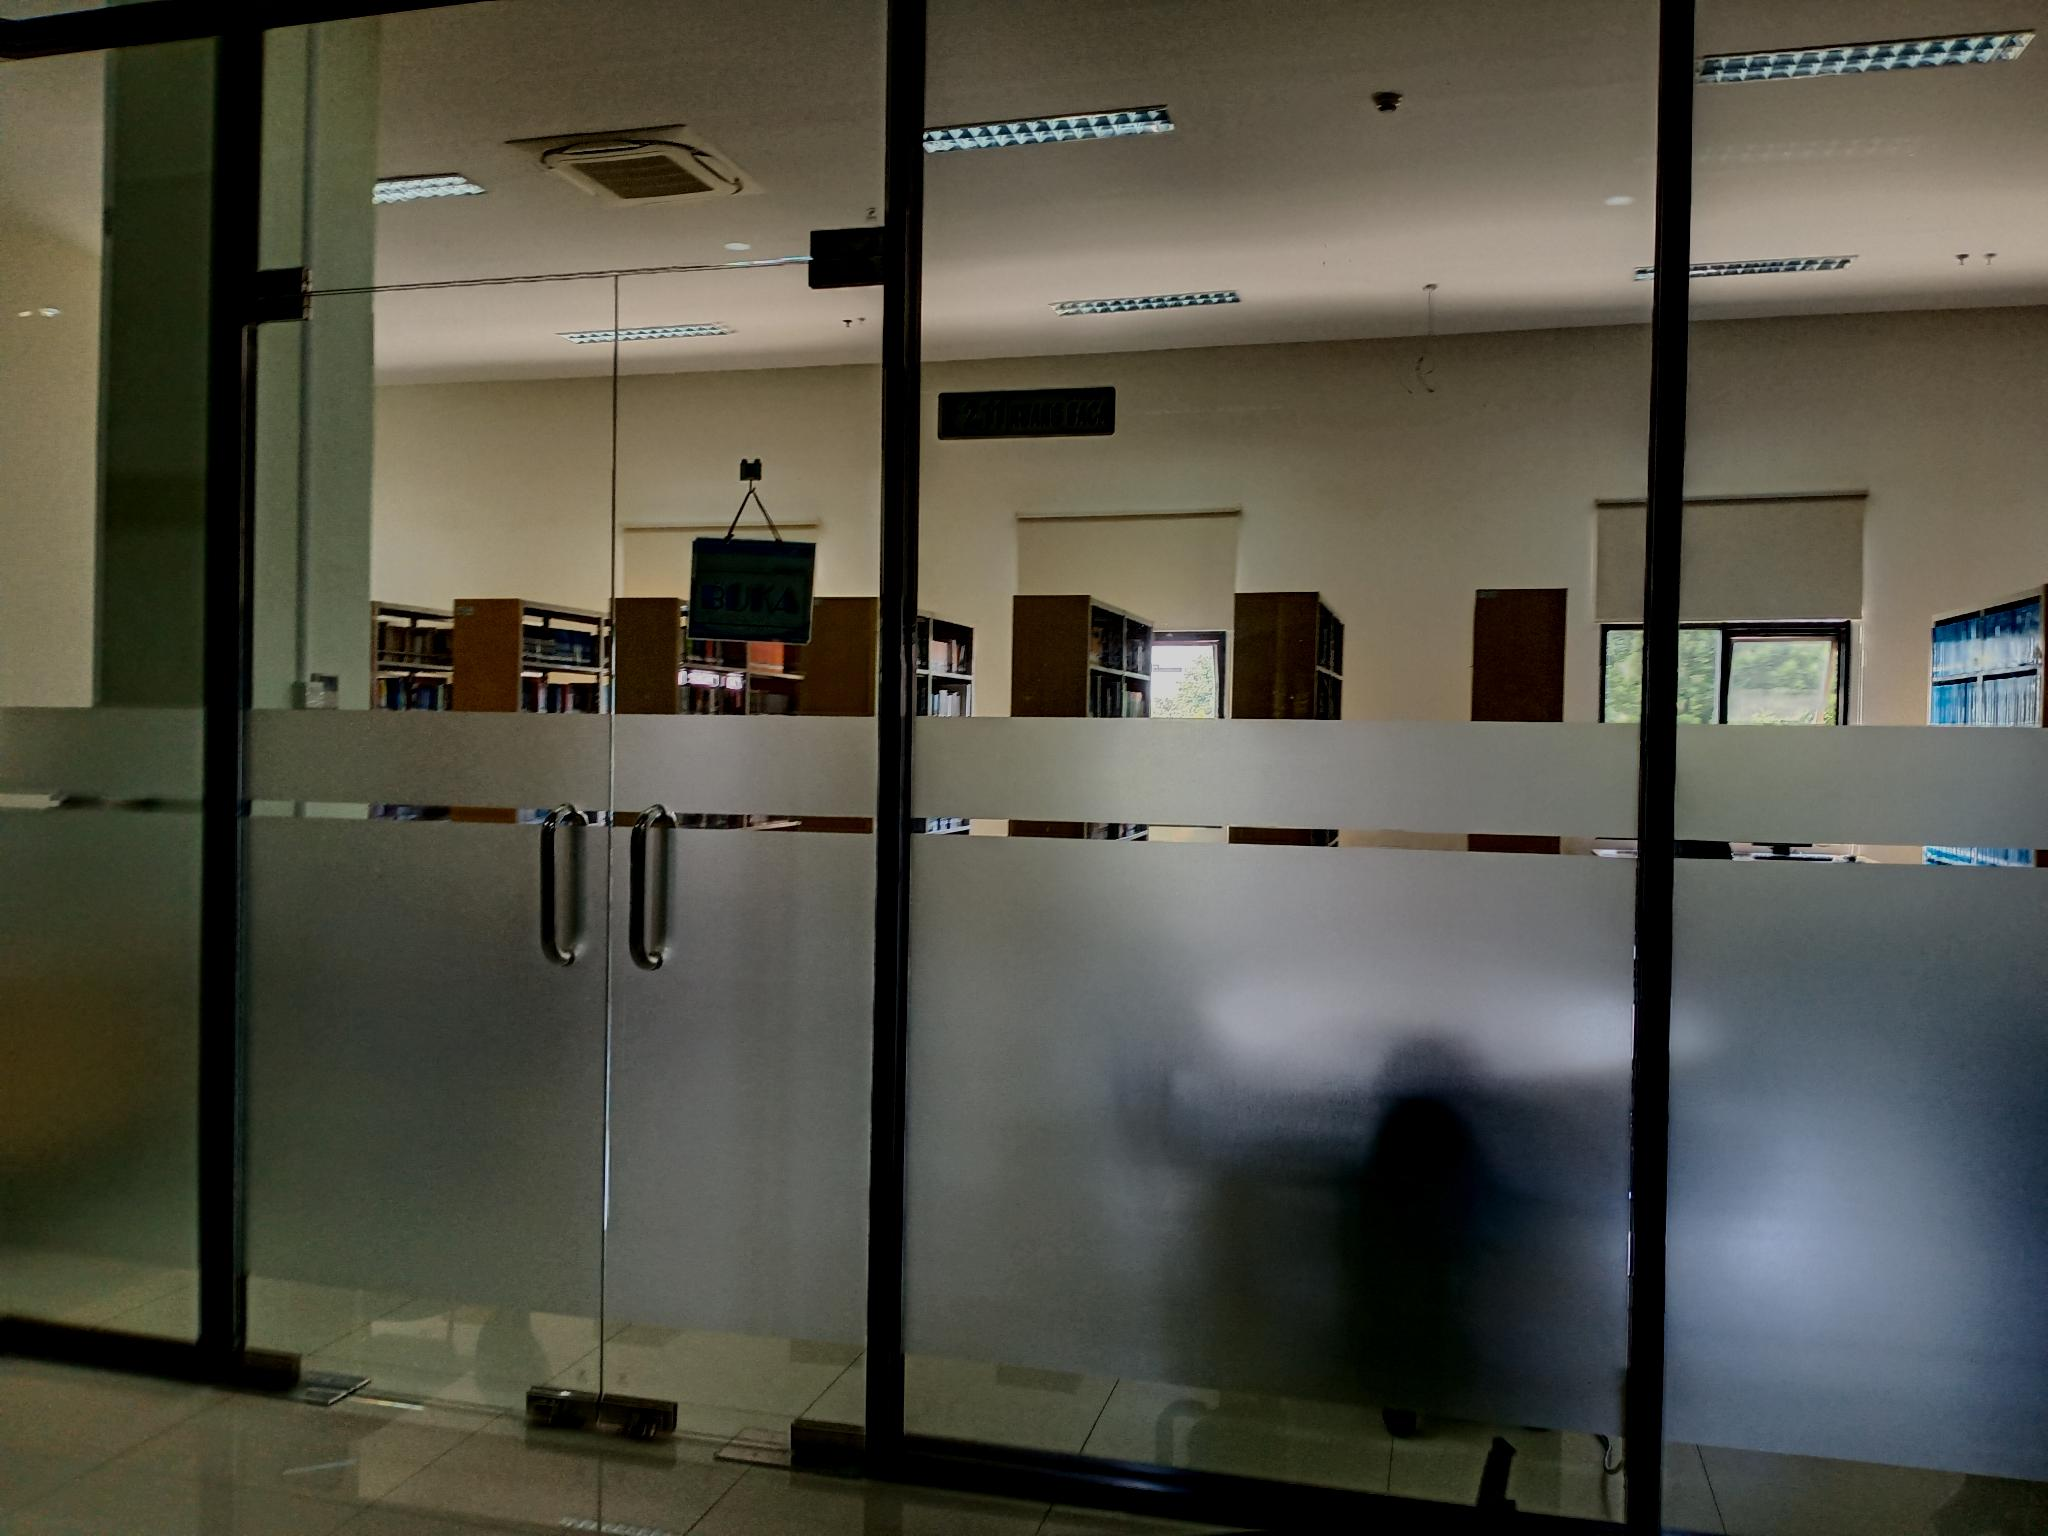plate: (937, 382, 1114, 440)
